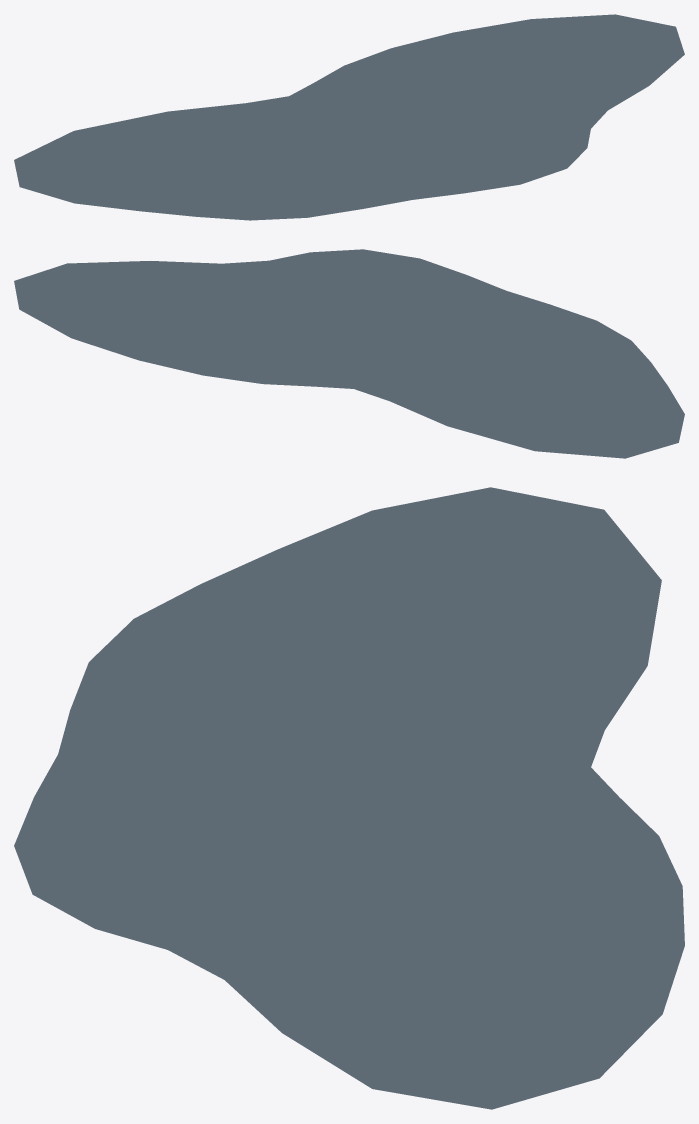
File: decal_puddle.glb
The picture shows the model from 3 angles, top to bottom: view 1: azimuth 30°, elevation 25°; view 2: azimuth 150°, elevation 25°; view 3: azimuth 270°, elevation 25°; orthographic projection. The views are drawn at different scales.
Visible parts, largest first — view 1: decal_puddle; view 2: decal_puddle; view 3: decal_puddle.
Boxes of the visible parts, bbox=[...] form: decal_puddle: bbox=[14, 14, 684, 220]; decal_puddle: bbox=[14, 249, 684, 458]; decal_puddle: bbox=[14, 487, 684, 1109].
Size of the model in its own units: 2.25 by 0 by 1.03.
